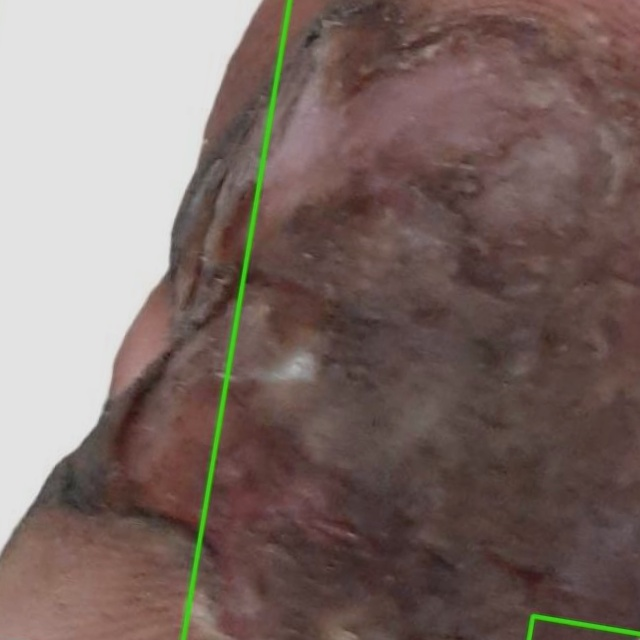Contact Dermatitis: (0, 0, 289, 639)
